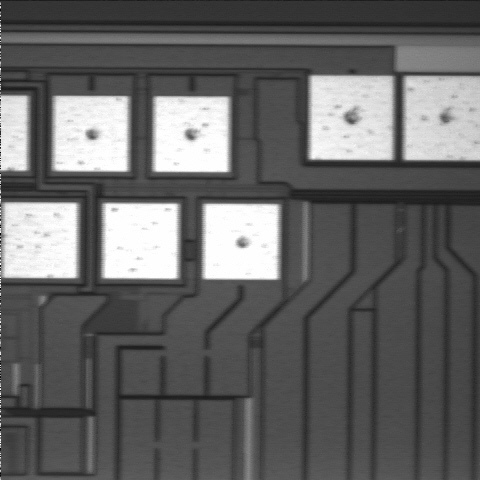pad: (310, 76, 393, 160), (102, 203, 179, 279), (53, 96, 129, 172), (153, 96, 229, 172), (2, 202, 78, 278), (203, 204, 279, 280)
